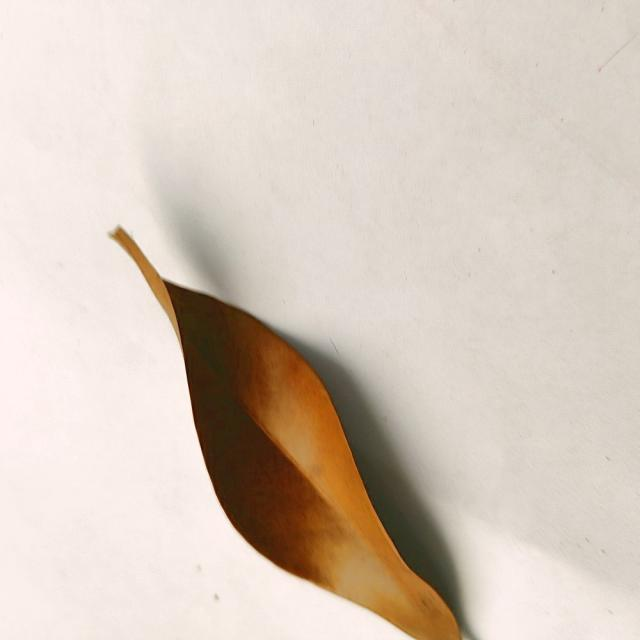Dry_Leaf-Lychee: (112, 229, 466, 639)
